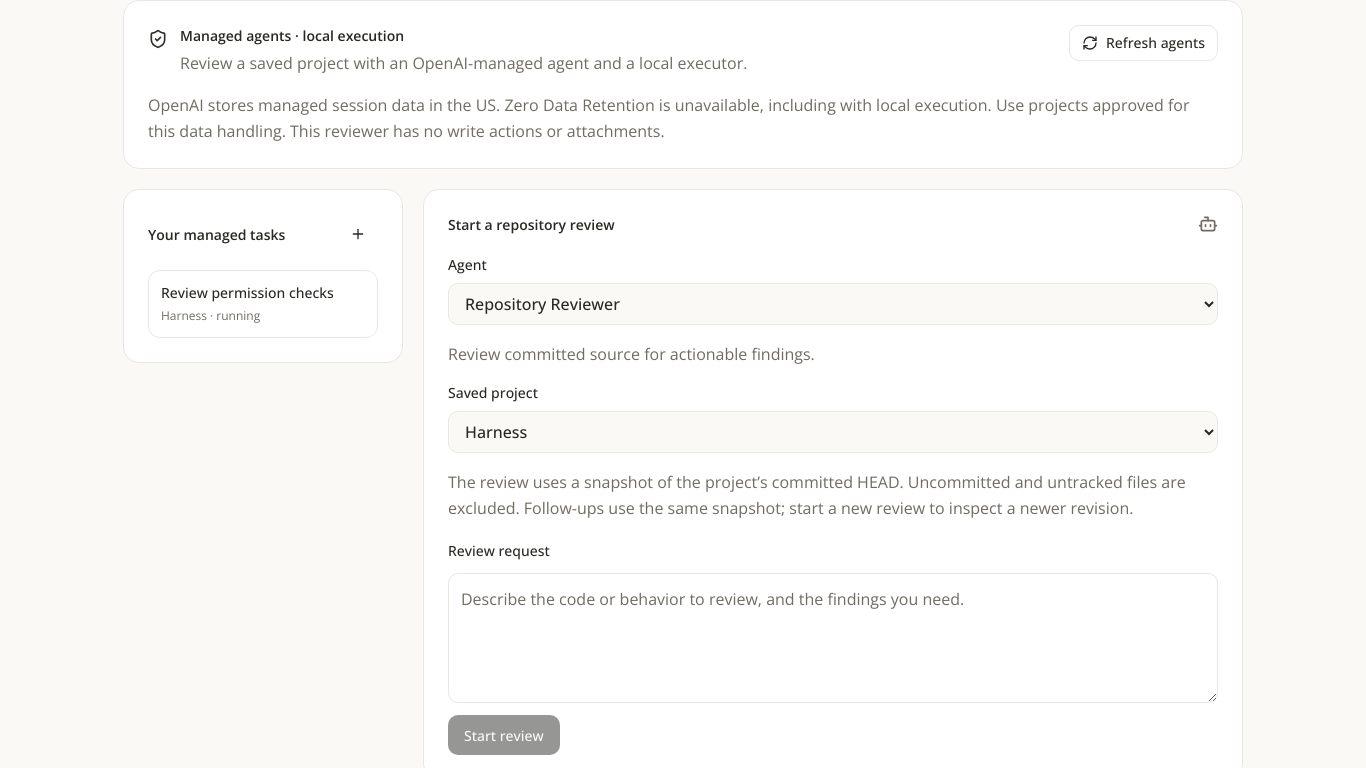
Test: ManagedAgentsView › does not send another message while a follow-up is starting
Click the button "Review permission checks Harness · running" at (263, 304), box [148,270,378,338]
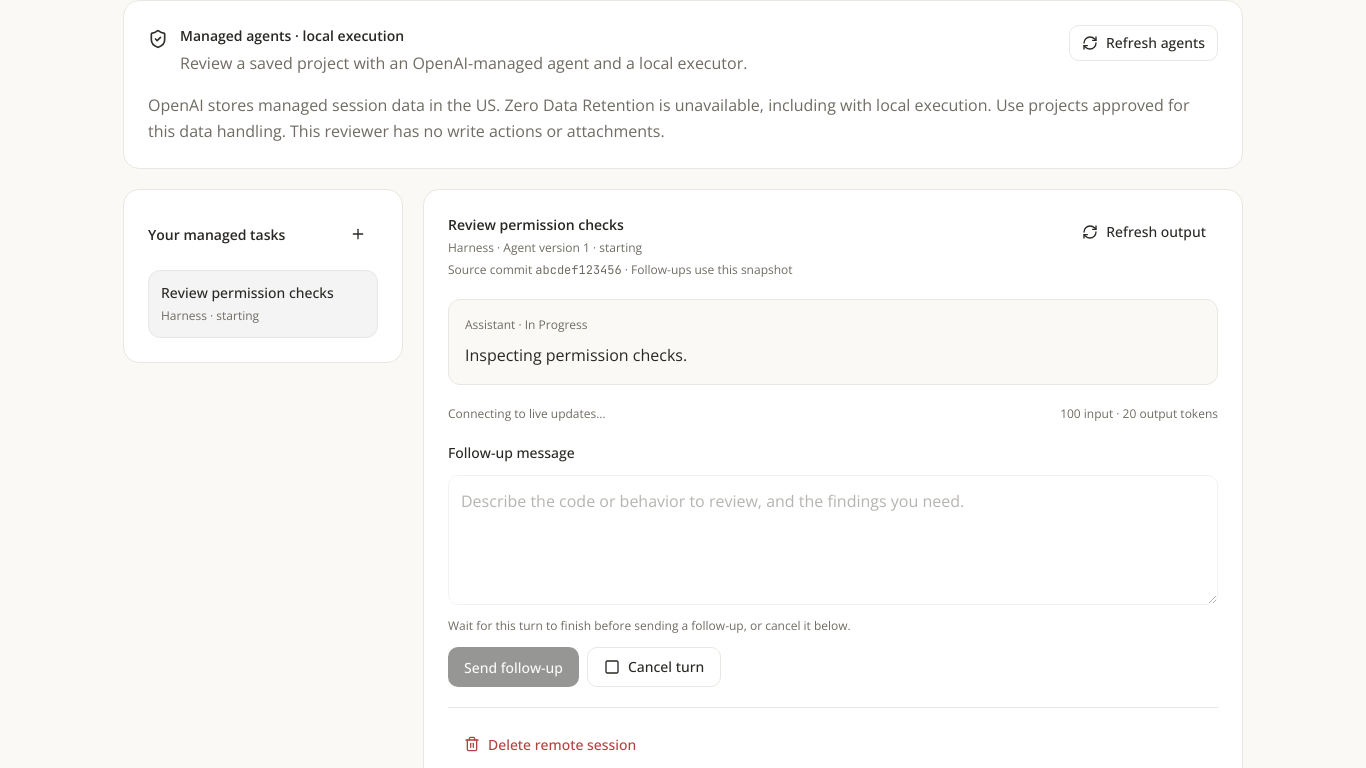
Expected: the text "Inspecting permission checks." is shown, [465,344,687,366]
Expected: the text box labelled "Follow-up message" is disabled, [448,475,1218,605]
Expected: the button "Cancel turn" is enabled, [587,647,721,687]
